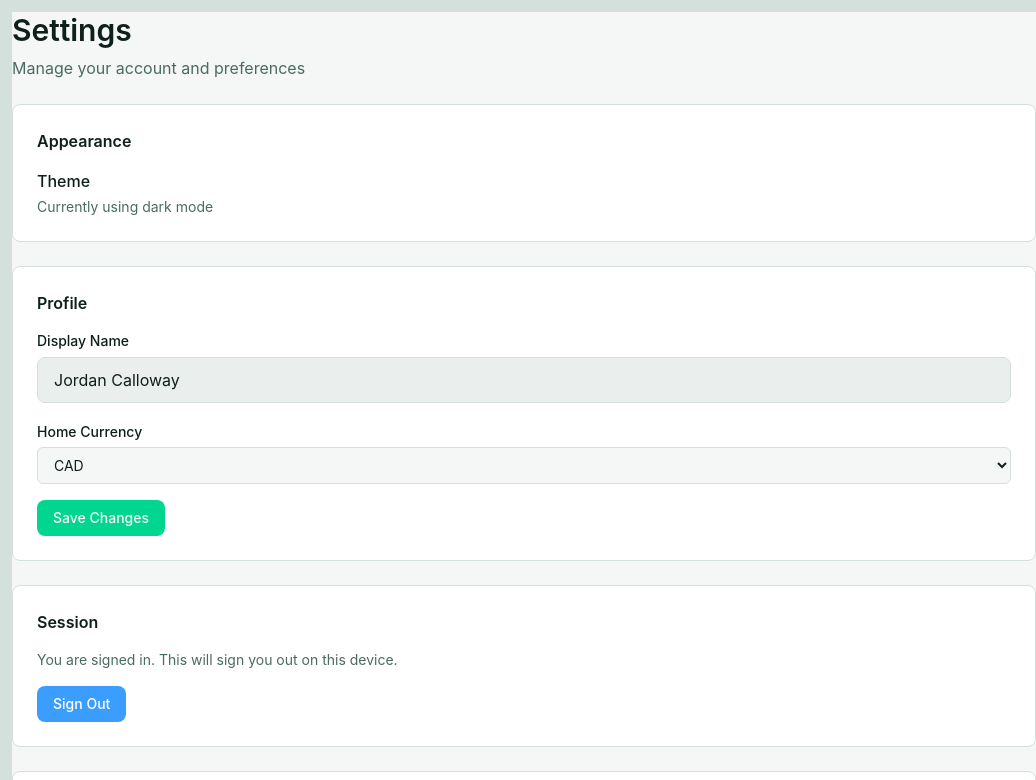
Test: Settings page › save profile › shows success message after a successful save
Click the button "Save Changes" at (101, 518), box [37,500,165,536]
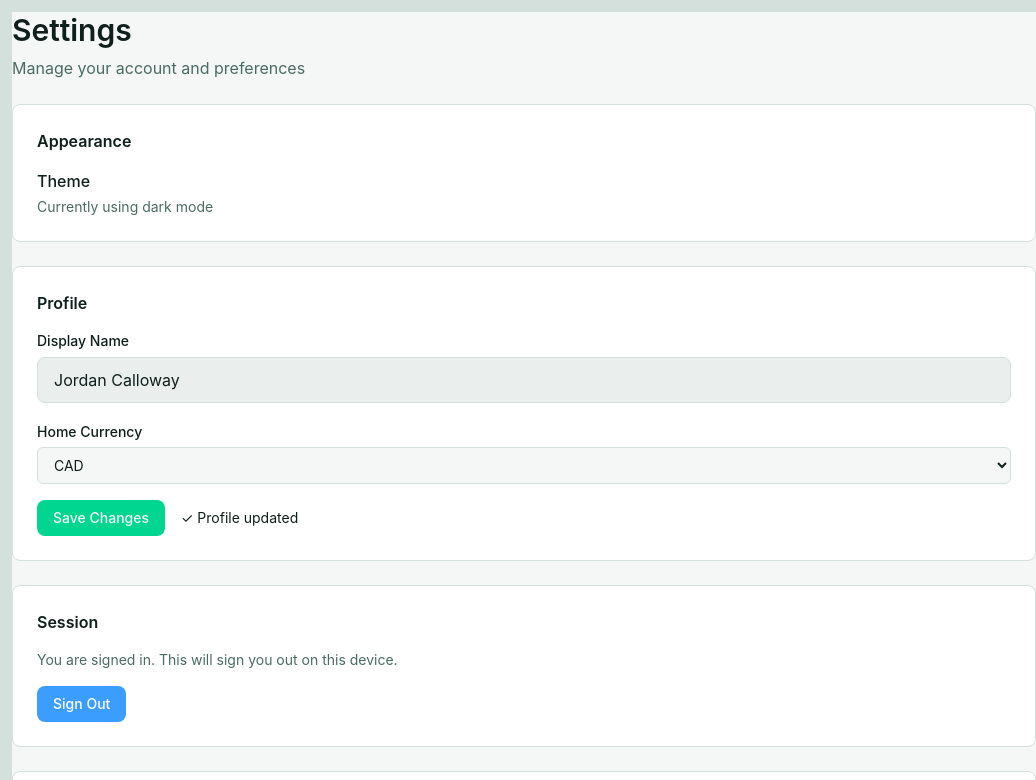
Check: the text "✓ Profile updated" is shown, box [181,508,298,528]
